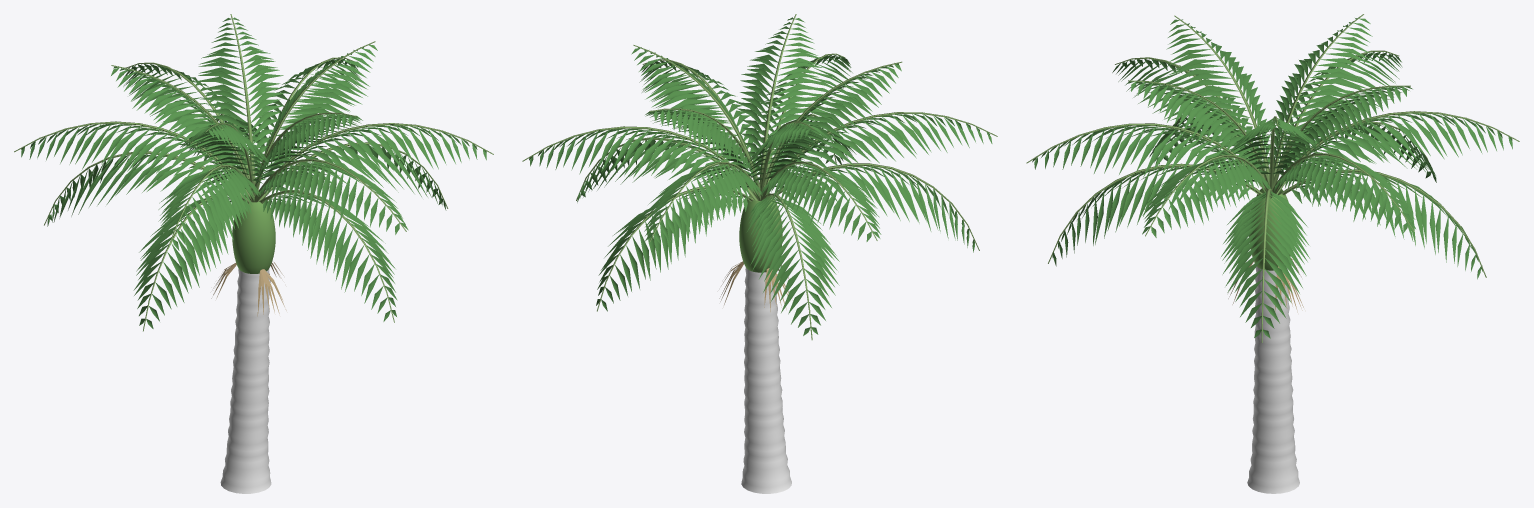
Rendered from nikau-hero-blender.glb.
The picture shows the model from 3 angles, left to right: view 1: azimuth 30°, elevation 25°; view 2: azimuth 150°, elevation 25°; view 3: azimuth 270°, elevation 25°; orthographic projection. The views are drawn at different scales.
Parts seen in each view (by area): view 1: Nikau_Fronds, Nikau_Trunk, Nikau_Rachis, Nikau_Crownshaft, Nikau_Panicles; view 2: Nikau_Fronds, Nikau_Trunk, Nikau_Rachis, Nikau_Crownshaft, Nikau_Panicles; view 3: Nikau_Fronds, Nikau_Trunk, Nikau_Rachis, Nikau_Crownshaft.
Boxes of the visible parts, x1=… form: Nikau_Fronds: x1=21, y1=17, x2=486, y2=328; Nikau_Trunk: x1=220, y1=268, x2=271, y2=493; Nikau_Rachis: x1=14, y1=14, x2=493, y2=331; Nikau_Crownshaft: x1=232, y1=195, x2=275, y2=273; Nikau_Panicles: x1=211, y1=262, x2=286, y2=316; Nikau_Fronds: x1=529, y1=17, x2=992, y2=335; Nikau_Trunk: x1=741, y1=267, x2=791, y2=493; Nikau_Rachis: x1=522, y1=14, x2=997, y2=340; Nikau_Crownshaft: x1=739, y1=193, x2=782, y2=272; Nikau_Panicles: x1=719, y1=261, x2=789, y2=311; Nikau_Fronds: x1=1032, y1=18, x2=1512, y2=338; Nikau_Trunk: x1=1247, y1=266, x2=1299, y2=493; Nikau_Rachis: x1=1026, y1=14, x2=1519, y2=342; Nikau_Crownshaft: x1=1249, y1=188, x2=1290, y2=270.
Size of the model in its own units: 4.25 by 4.5 by 4.76.
